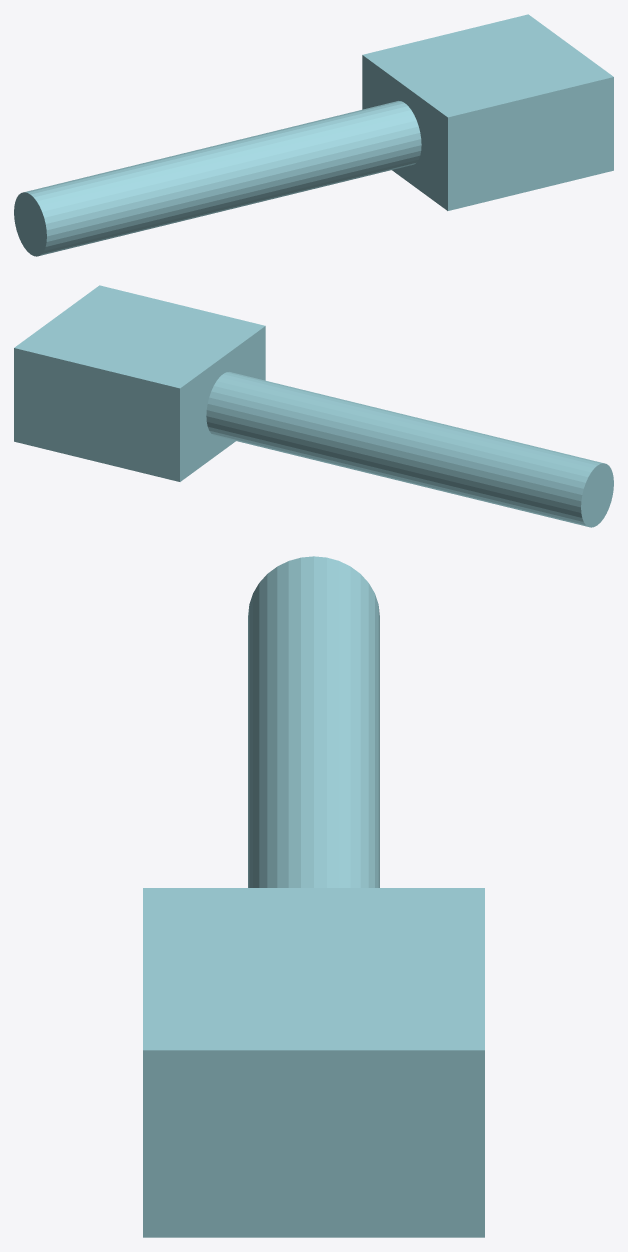
Rendered from cylinder_brush_v9012.obj.
3 views of the same model, one above another, from view 1: azimuth 30°, elevation 25°; view 2: azimuth 150°, elevation 25°; view 3: azimuth 270°, elevation 25° (orthographic). The views are drawn at different scales.
Bounding box in the file's own units: 0.2698 × 0.0447 × 0.0739.
Materials: 1 (1 with a texture image).
